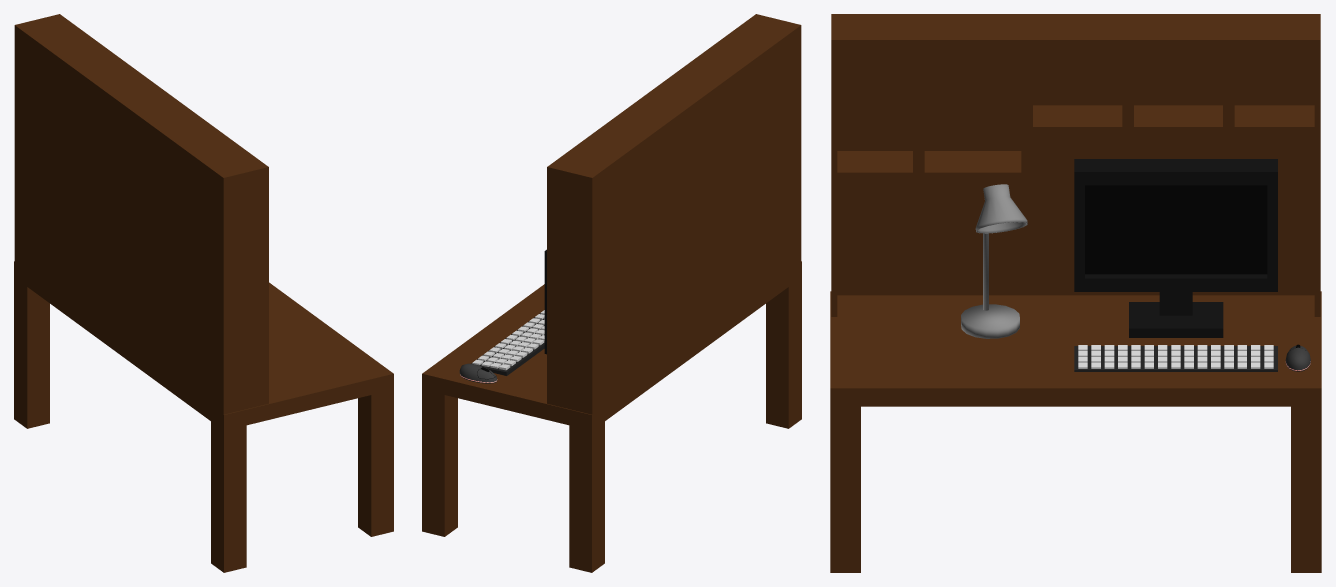
File: desk.fbx
3 renders of one model, left to right at view 1: azimuth 30°, elevation 25°; view 2: azimuth 150°, elevation 25°; view 3: azimuth 270°, elevation 25°, orthographic. The views are drawn at different scales.
Visible parts, largest first — view 1: Shelves, Desk; view 2: Shelves, Desk, Keys, Base, Mouse; view 3: Shelves, Desk, New Monitor, Lamp, Keys, Base.
Boxes of the visible parts, bbox=[...] form: Shelves: bbox=[14, 14, 268, 414]; Desk: bbox=[14, 261, 393, 572]; Shelves: bbox=[547, 14, 801, 414]; Desk: bbox=[422, 261, 801, 572]; Keys: bbox=[472, 310, 544, 370]; Base: bbox=[471, 313, 544, 375]; Mouse: bbox=[459, 363, 497, 383]; Shelves: bbox=[831, 14, 1320, 316]; Desk: bbox=[830, 291, 1321, 572]; New Monitor: bbox=[1074, 159, 1277, 337]; Lamp: bbox=[961, 184, 1027, 338]; Keys: bbox=[1078, 345, 1273, 368]; Base: bbox=[1074, 346, 1277, 371].
Bounding box in the file's own units: 225 × 500 × 482.
